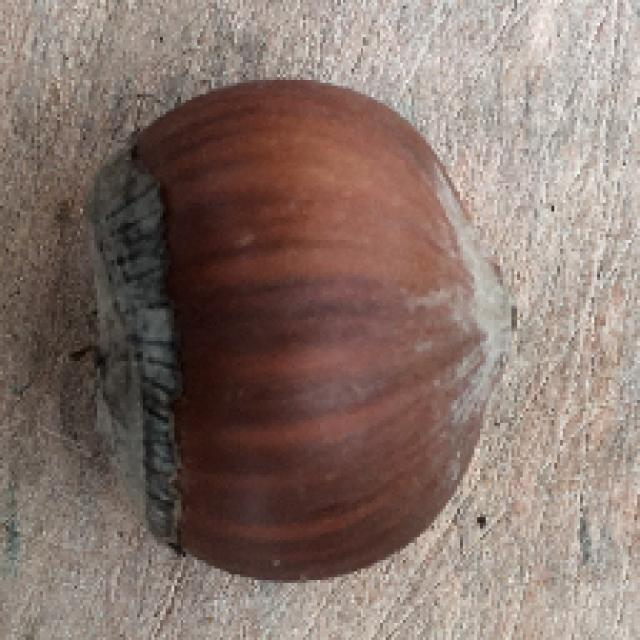damagedHazelnut: (75, 71, 519, 587)
